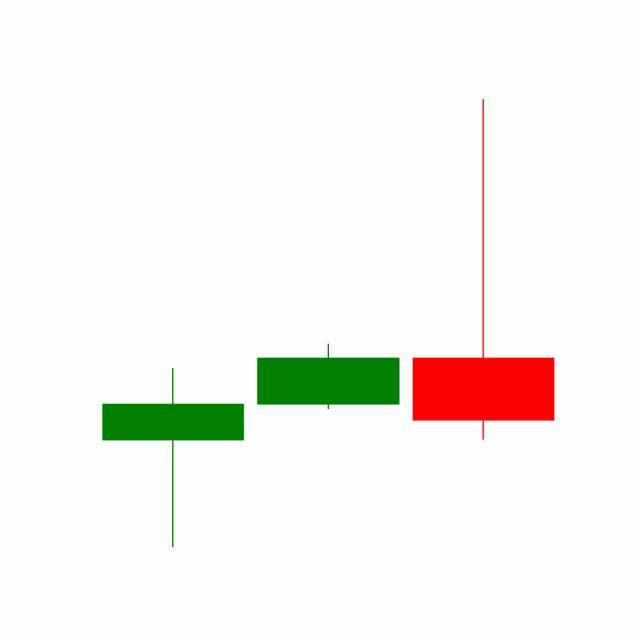Marubozu: (250, 344, 407, 412)
